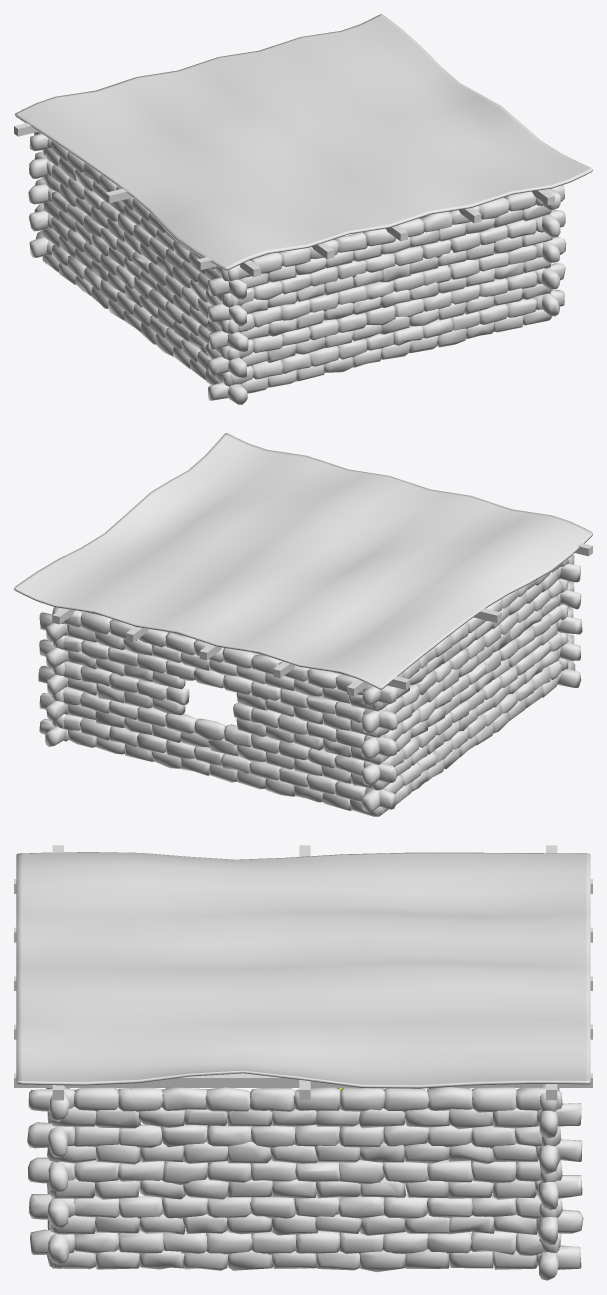
File: casa de adobes super bin.fbx
3 renders of one model, top to bottom at view 1: azimuth 30°, elevation 25°; view 2: azimuth 150°, elevation 25°; view 3: azimuth 270°, elevation 25°, orthographic. The views are drawn at different scales.
Parts seen in each view (by area): view 1: Cube.004; view 2: Cube.004; view 3: Cube.004.
Part boxes in pixels (left/top/right/bottom): Cube.004: left=14, top=14, right=592, bottom=404; Cube.004: left=14, top=433, right=592, bottom=816; Cube.004: left=14, top=845, right=592, bottom=1280.
Bounding box in the file's own units: 1099 × 442 × 1072.
